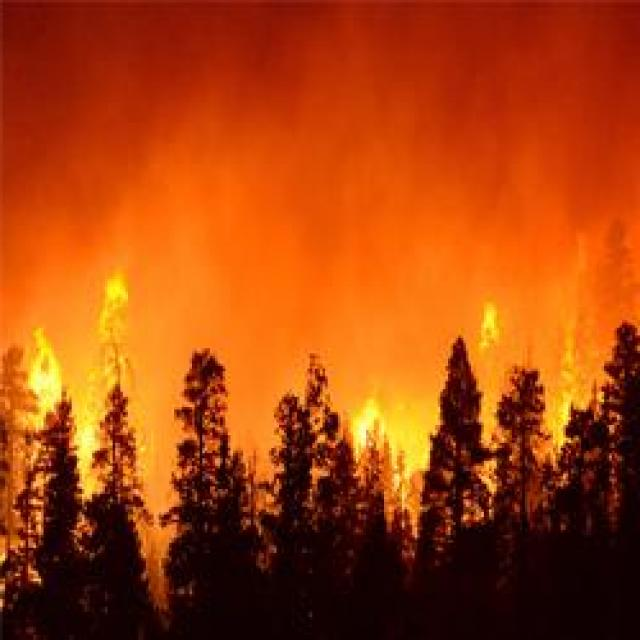fire: (25, 330, 66, 404), (348, 398, 384, 456), (474, 298, 506, 344), (552, 358, 572, 430), (101, 274, 132, 310)
smoke: (308, 122, 582, 288), (0, 96, 246, 272), (279, 0, 458, 164), (0, 2, 156, 164), (562, 170, 638, 314)
